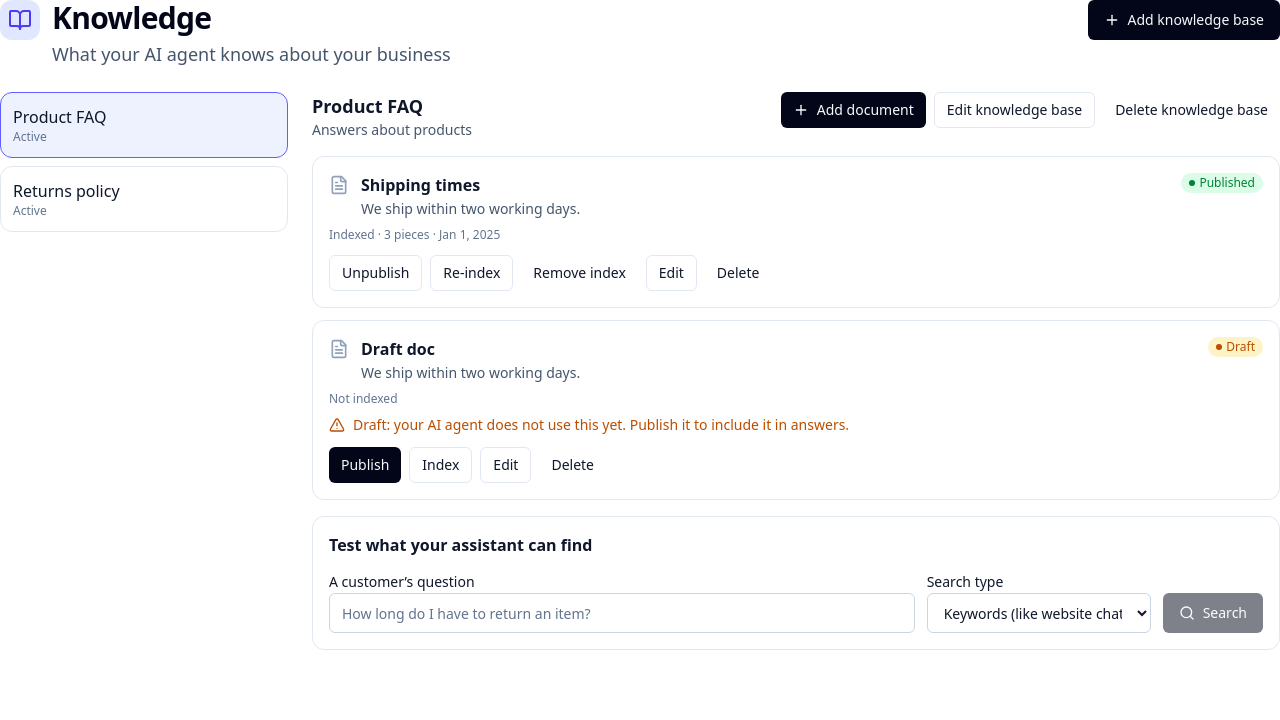
Test case: KnowledgePage › asks before deleting a knowledge base, and keeps it when deletion fails
Click the button "Delete knowledge base" at (1192, 110), box [1103,92,1279,128]
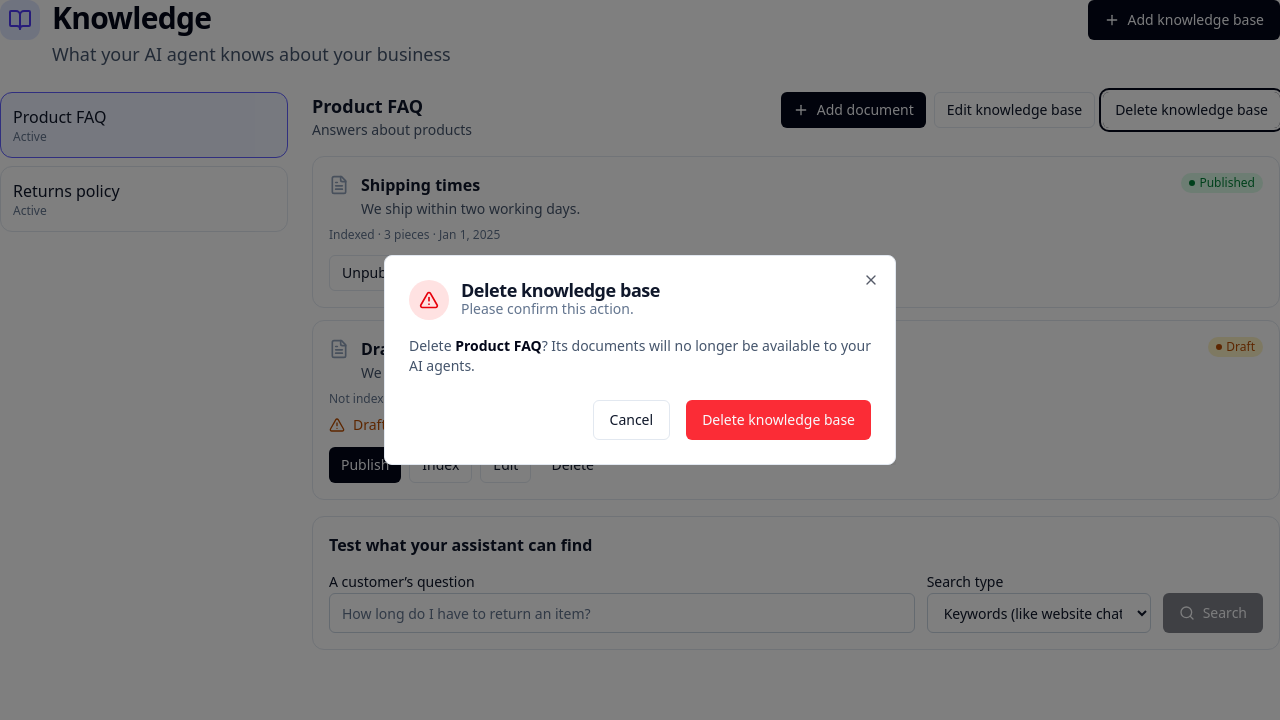
Click the button "Cancel" at (631, 420), box [592,400,670,440]
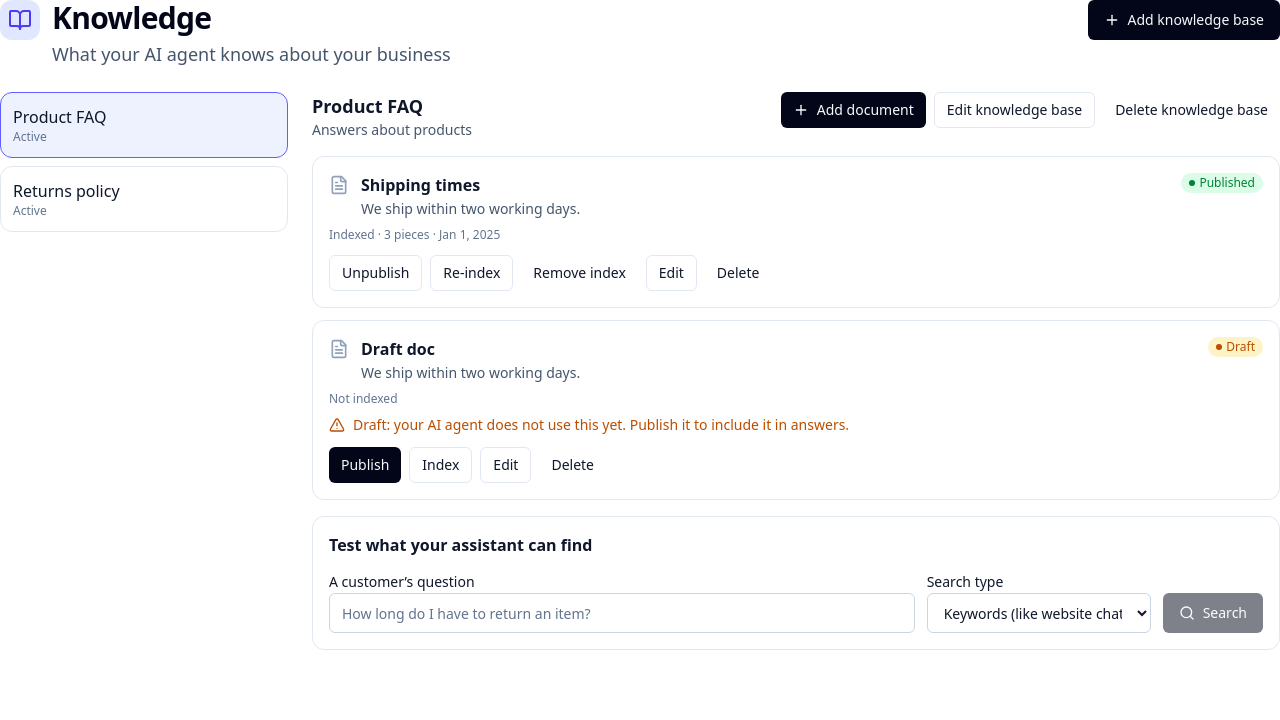
Click the button "Delete knowledge base" at (1192, 110), box [1103,92,1279,128]
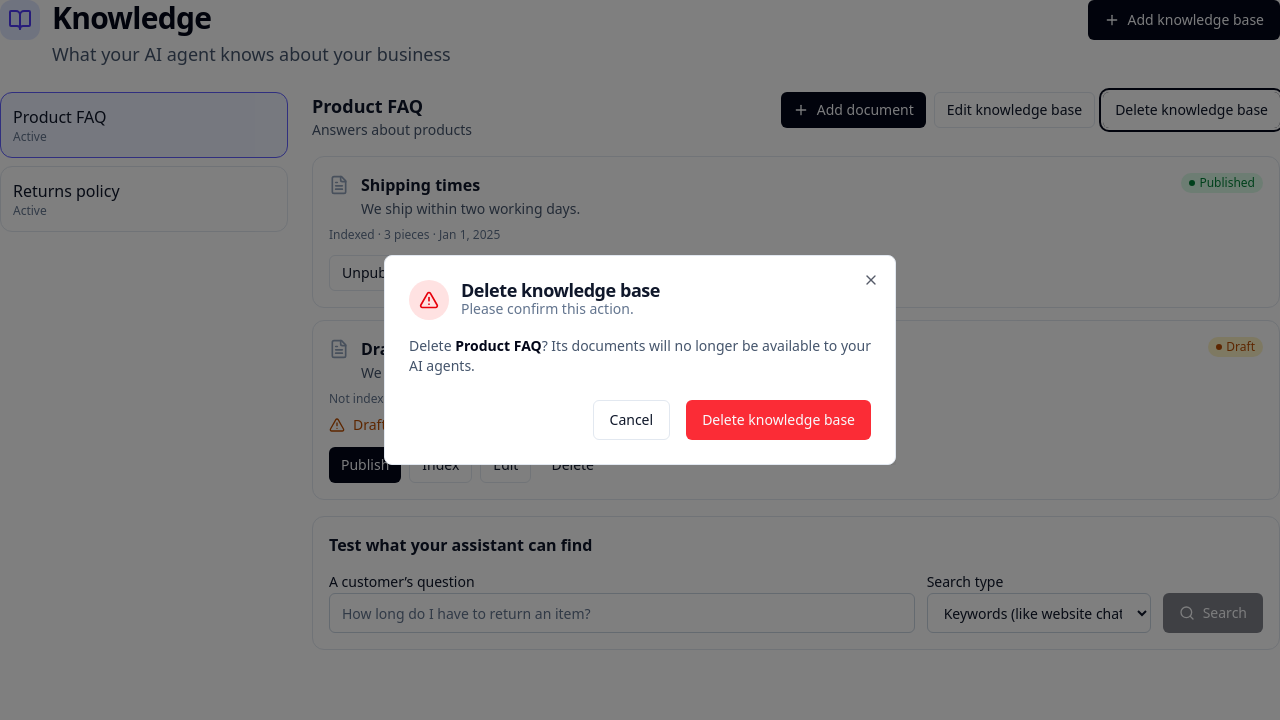
Click the button "Delete knowledge base" at (779, 420), box [686,400,871,440]
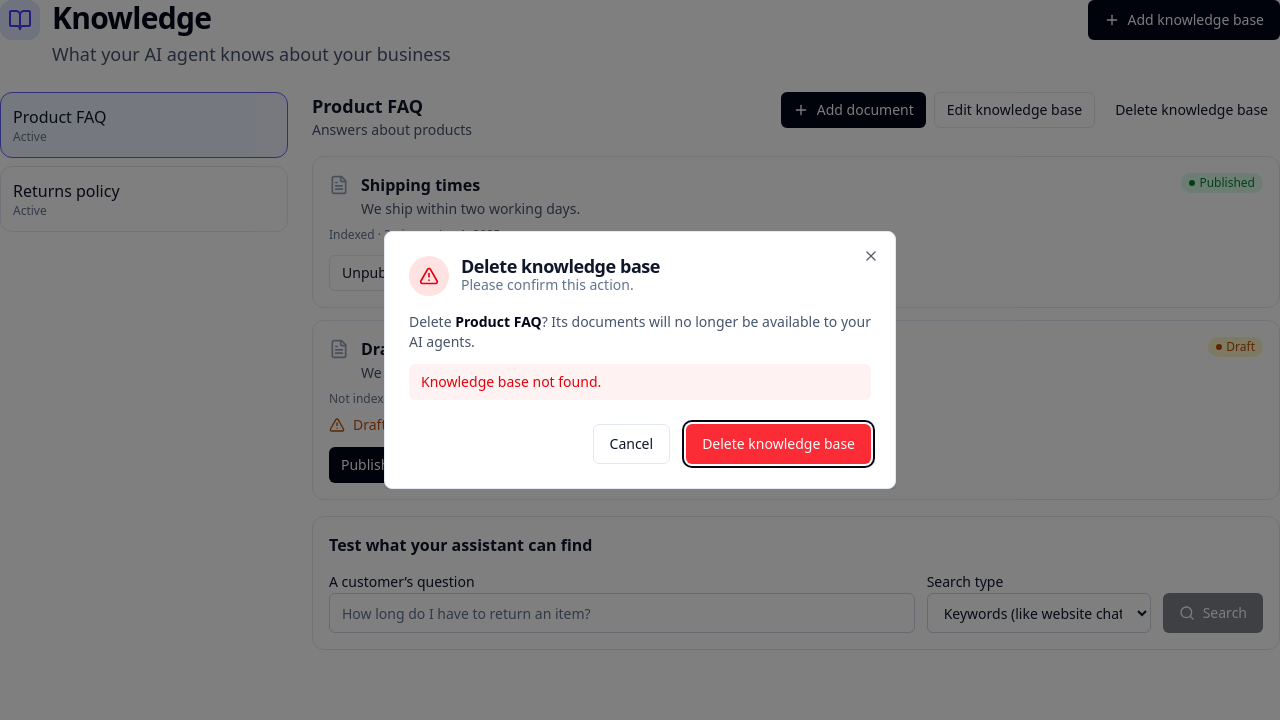
Expected: the text "Knowledge base not found." is shown, [409,364,871,400]
